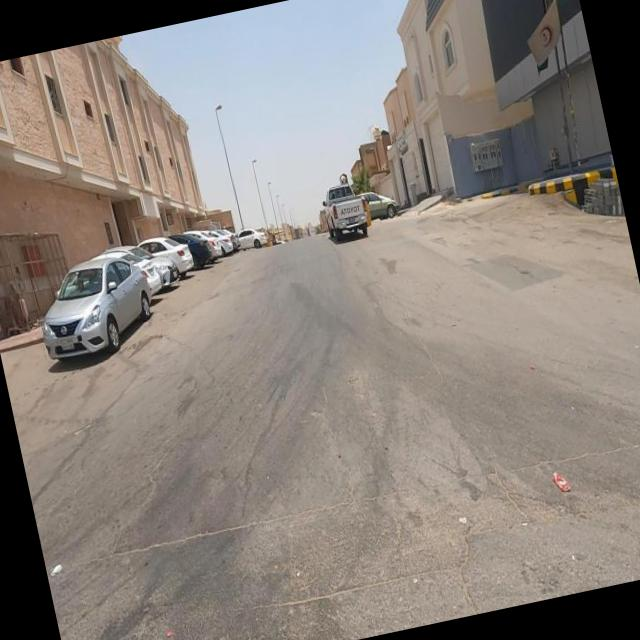debris: (518, 428, 608, 534)
